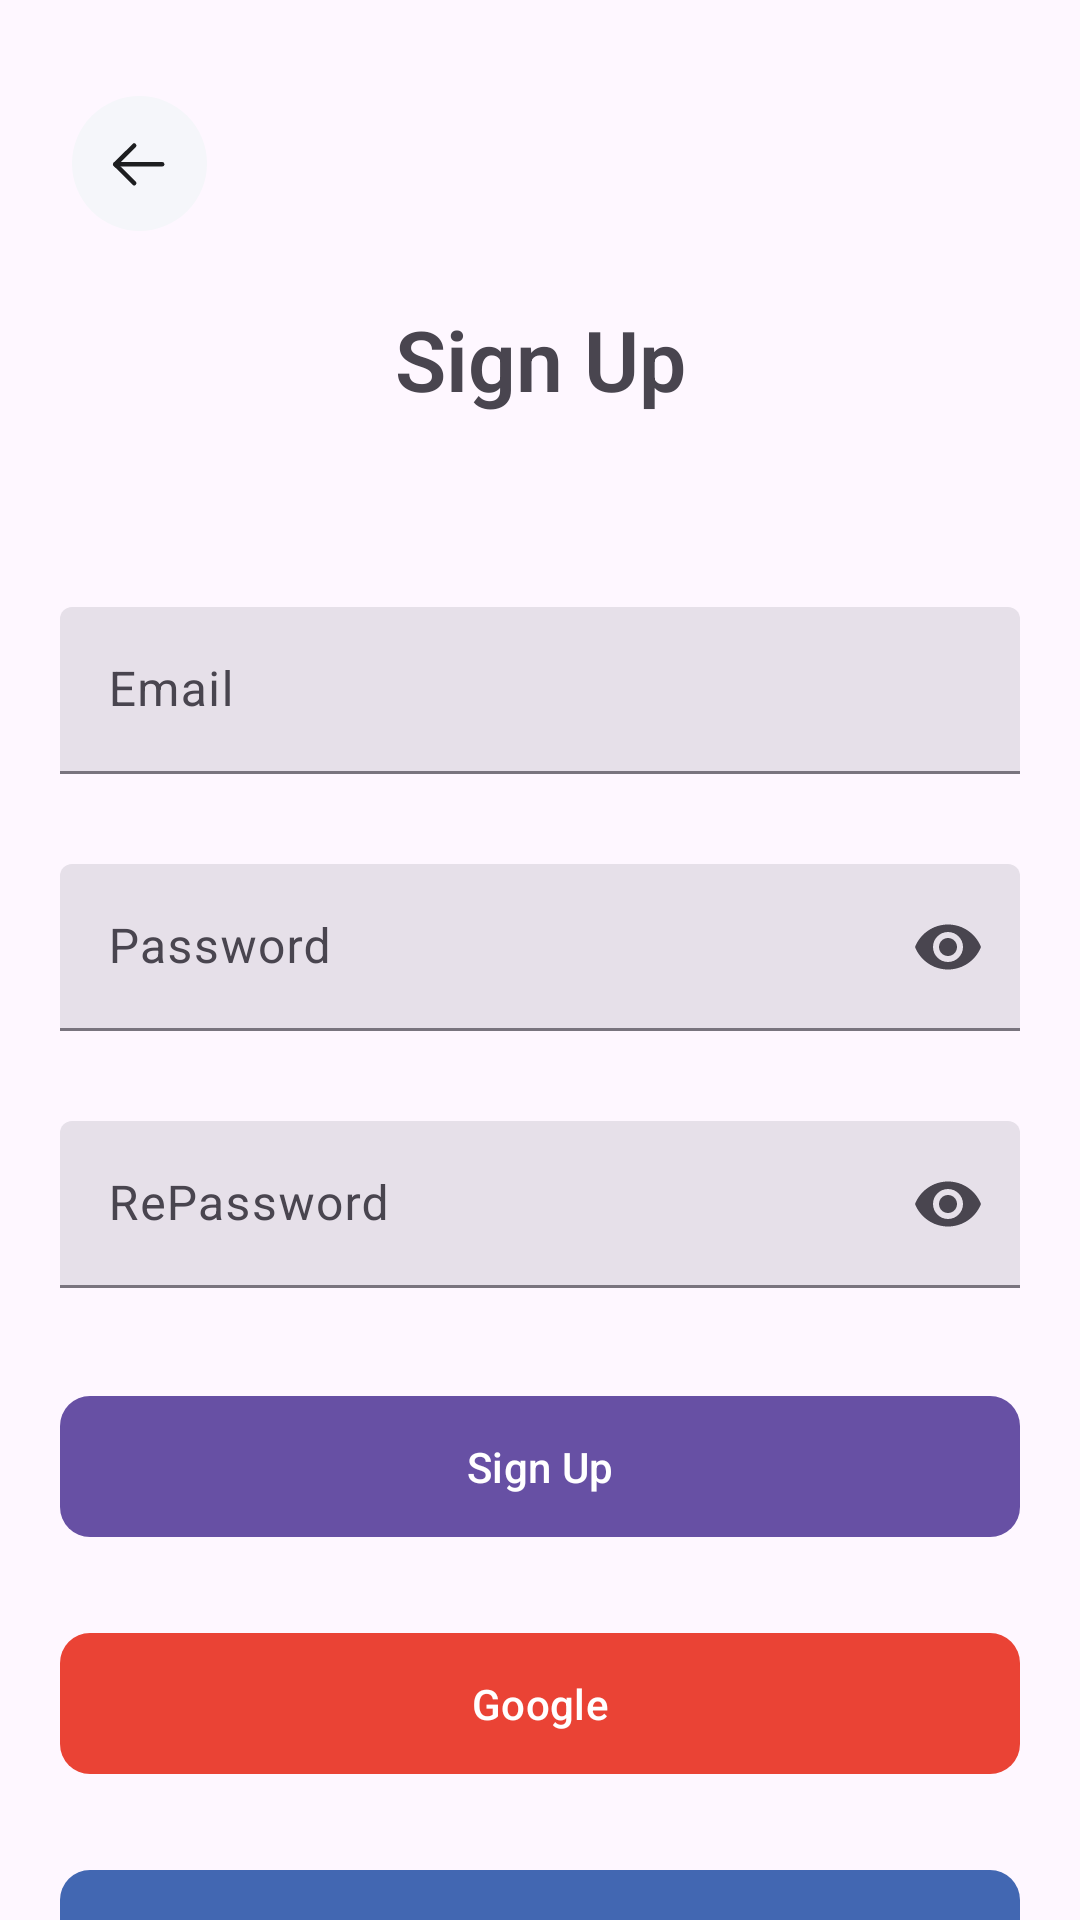

Icons on this 1080 × 1920 Android screen, each with its box as (x1, y1, x2, y2):
back: (72, 96, 207, 231)
